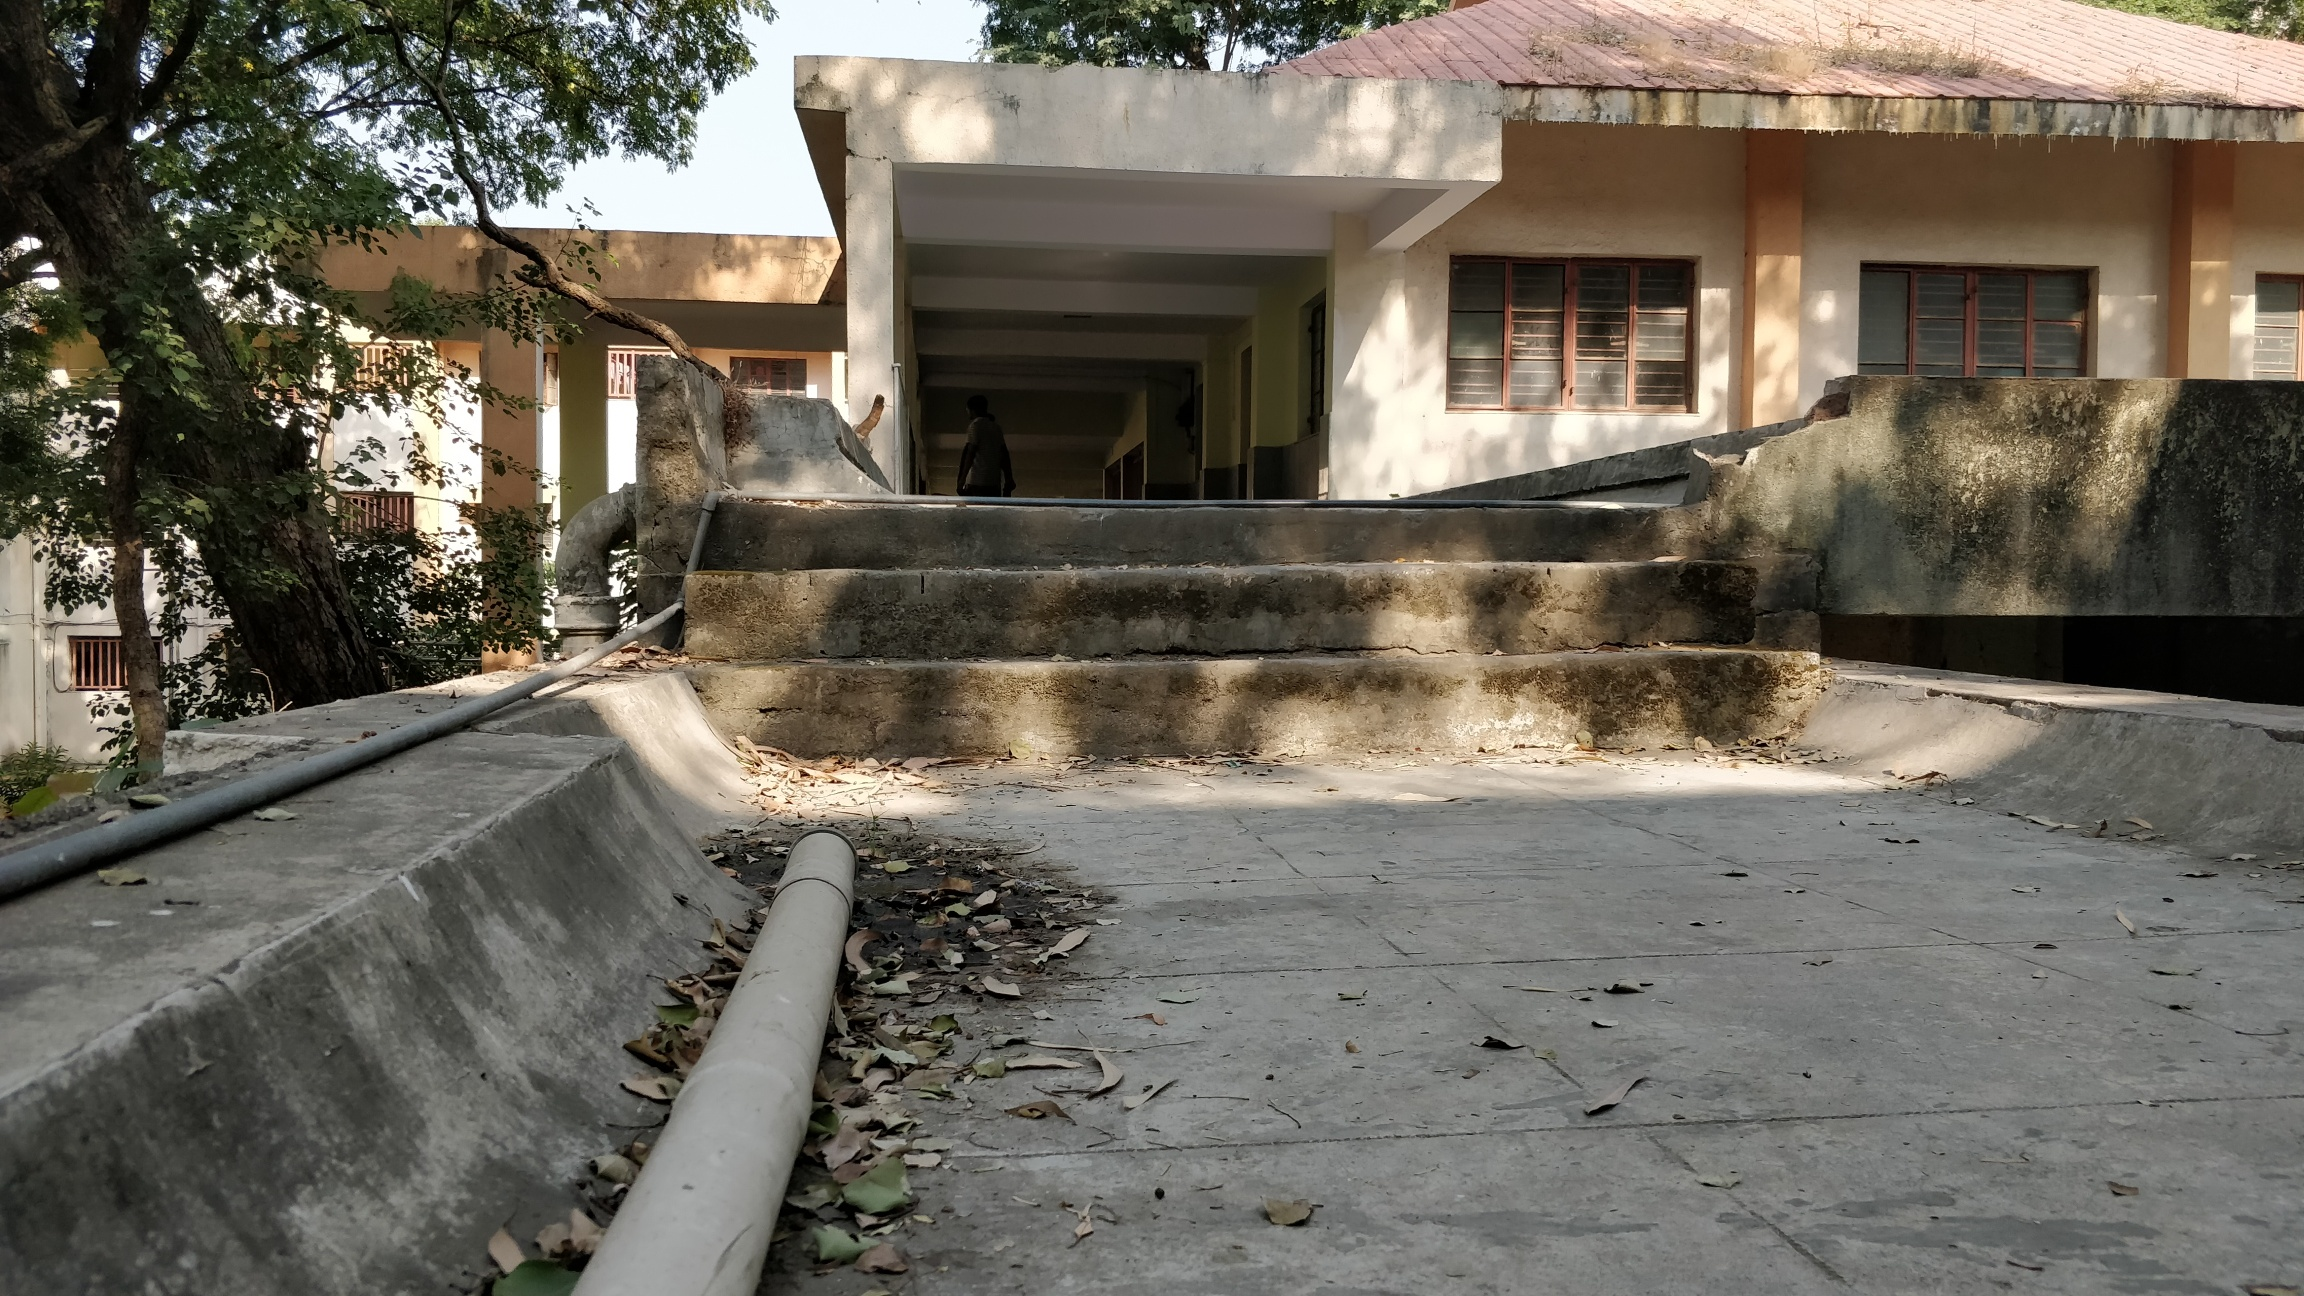stairs_up: (657, 487, 1844, 763)
